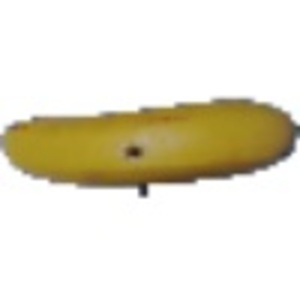banana: (1, 97, 297, 192)
